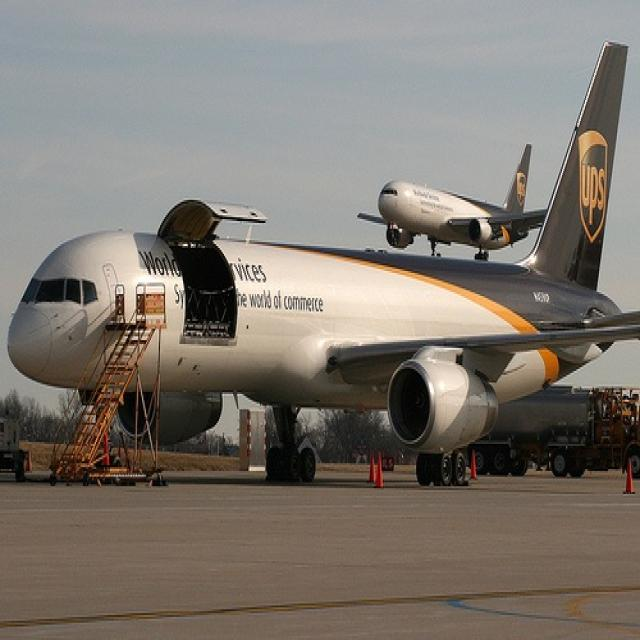aeroplane: (5, 35, 639, 492), (354, 140, 550, 266)
